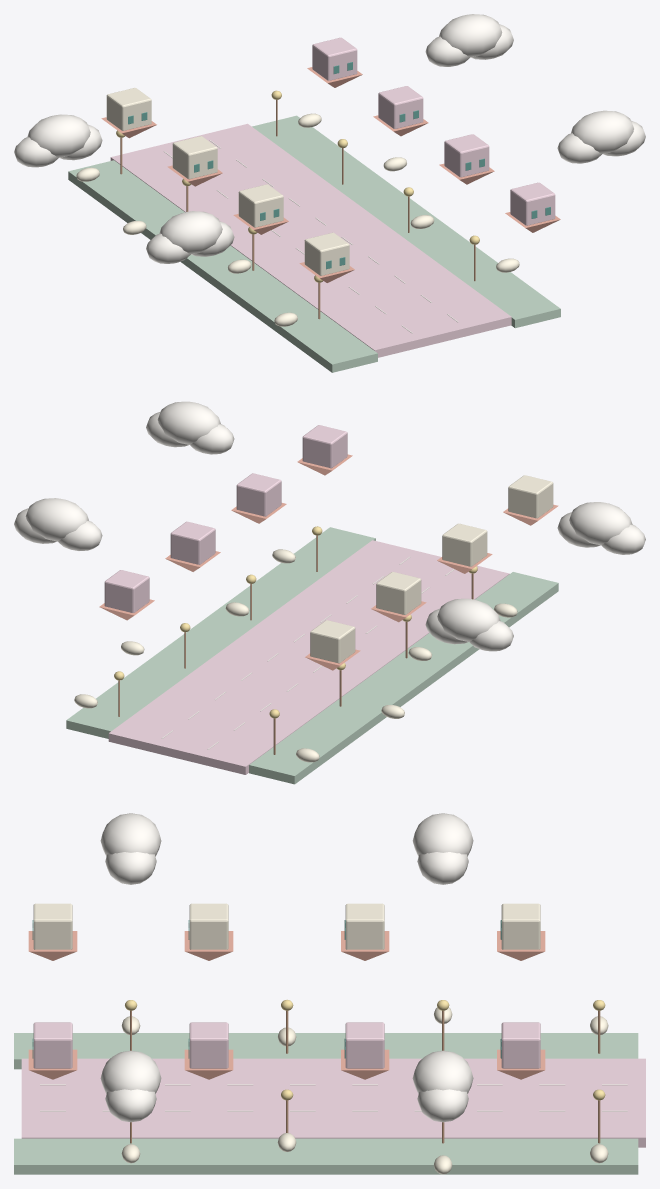
The model's file is hi3d-hi3d-runner-village-0-DQq7tR6u.glb.
3 renders of one model, top to bottom at view 1: azimuth 30°, elevation 25°; view 2: azimuth 150°, elevation 25°; view 3: azimuth 270°, elevation 25°, orthographic. The views are drawn at different scales.
Visible parts, largest first — view 1: ENV_MAT_pink, ENV_MAT_grass, ENV_MAT_white.002, ENV_MAT_cream.003, HOUSE_WALL.002, HOUSE_WALL.001, HOUSE_WALL.004, HOUSE_WALL.007, HOUSE_WALL.005, HOUSE_WALL.006, HOUSE_WALL, HOUSE_WALL.003 (+2 smaller); view 2: ENV_MAT_pink, ENV_MAT_grass, ENV_MAT_white.002, ENV_MAT_cream.003, HOUSE_WALL.003, HOUSE_WALL.006, HOUSE_WALL, HOUSE_WALL.001, HOUSE_WALL.005, HOUSE_WALL.002, HOUSE_WALL.004, HOUSE_WALL.007 (+2 smaller); view 3: ENV_MAT_pink, ENV_MAT_grass, ENV_MAT_white.002, ENV_MAT_cream.003, HOUSE_WALL.004, HOUSE_WALL.005, HOUSE_WALL.006, HOUSE_WALL.007, HOUSE_WALL.003, HOUSE_WALL, HOUSE_WALL.001, HOUSE_WALL.002 (+10 smaller).
Part boxes in pixels (x1,y1,x2,y2): ENV_MAT_pink: [110, 123, 511, 357]; ENV_MAT_grass: [68, 115, 560, 372]; ENV_MAT_white.002: [14, 14, 645, 333]; ENV_MAT_cream.003: [76, 113, 519, 326]; HOUSE_WALL.002: [172, 136, 217, 179]; HOUSE_WALL.001: [238, 184, 283, 227]; HOUSE_WALL.004: [510, 182, 555, 225]; HOUSE_WALL.007: [312, 37, 357, 80]; HOUSE_WALL.005: [444, 134, 489, 177]; HOUSE_WALL.006: [378, 86, 423, 128]; HOUSE_WALL: [304, 232, 349, 275]; HOUSE_WALL.003: [106, 88, 151, 130]; ENV_MAT_pink: [108, 540, 509, 774]; ENV_MAT_grass: [66, 527, 558, 784]; ENV_MAT_white.002: [14, 401, 645, 749]; ENV_MAT_cream.003: [74, 549, 517, 762]; HOUSE_WALL.003: [310, 620, 355, 663]; HOUSE_WALL.006: [170, 521, 215, 564]; HOUSE_WALL: [508, 475, 553, 518]; HOUSE_WALL.001: [442, 523, 487, 566]; HOUSE_WALL.005: [236, 473, 281, 516]; HOUSE_WALL.002: [376, 572, 421, 614]; HOUSE_WALL.004: [302, 425, 347, 468]; HOUSE_WALL.007: [104, 570, 149, 612]; ENV_MAT_pink: [21, 1058, 645, 1147]; ENV_MAT_grass: [14, 1033, 638, 1174]; ENV_MAT_white.002: [40, 813, 627, 1122]; ENV_MAT_cream.003: [121, 1007, 608, 1174]; HOUSE_WALL.004: [33, 1022, 72, 1068]; HOUSE_WALL.005: [189, 1022, 228, 1068]; HOUSE_WALL.006: [345, 1022, 384, 1068]; HOUSE_WALL.007: [501, 1022, 540, 1068]; HOUSE_WALL.003: [501, 903, 540, 949]; HOUSE_WALL: [33, 903, 72, 949]; HOUSE_WALL.001: [189, 903, 228, 949]; HOUSE_WALL.002: [345, 903, 384, 949].
Size of the model in its own units: 43.4 by 12.11 by 40.5.
